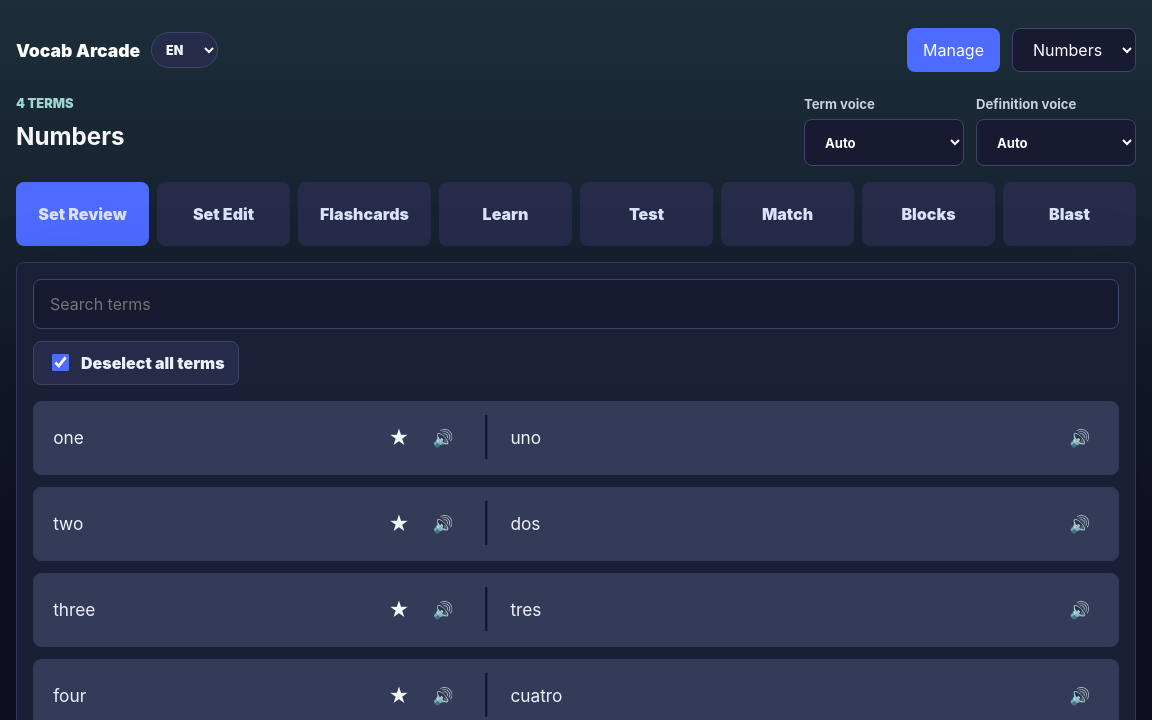
Test: App › can start Learn in written-only mode
Click the tab "Learn" at [506, 214], box [439, 182, 572, 246]
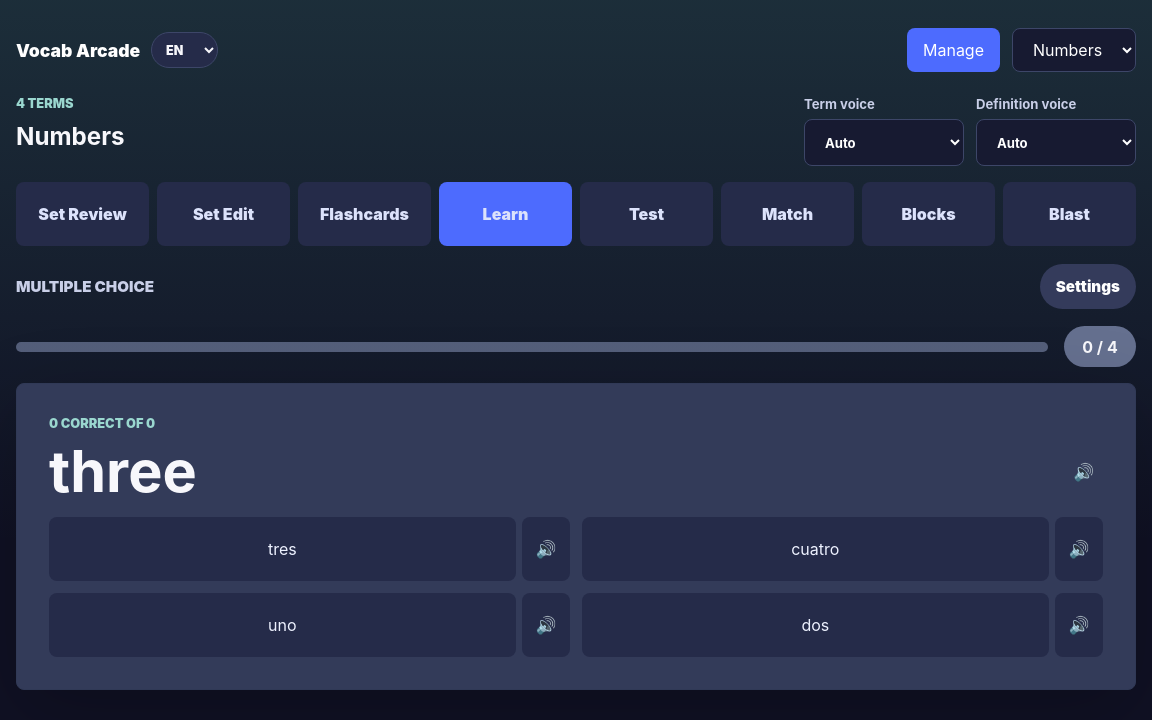
Click the button with aria-label "Learn settings" at [1088, 286], box [1040, 264, 1136, 309]
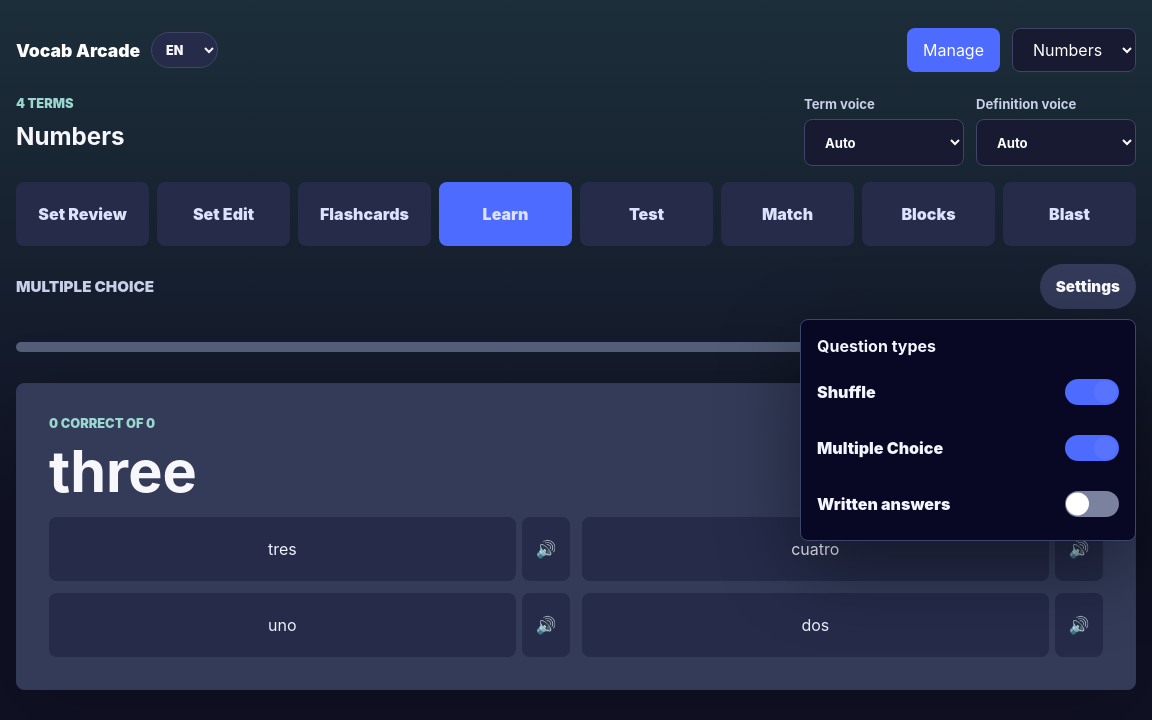
Click the checkbox labelled "Multiple Choice" at [880, 448], box [817, 428, 1119, 468]
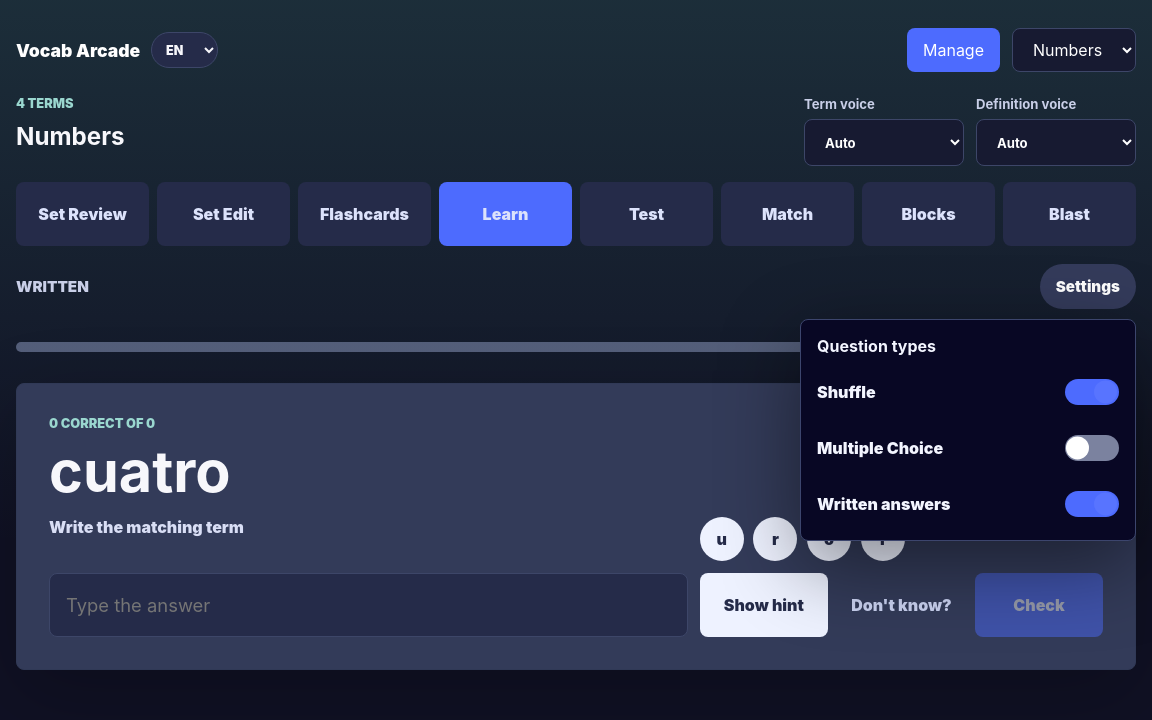
Expected: the checkbox labelled "Multiple Choice" is not checked, [817, 428, 1119, 468]
Expected: the checkbox labelled "Written answers" is checked, [817, 484, 1119, 524]
Expected: the text "Written" is shown, [16, 277, 89, 296]
